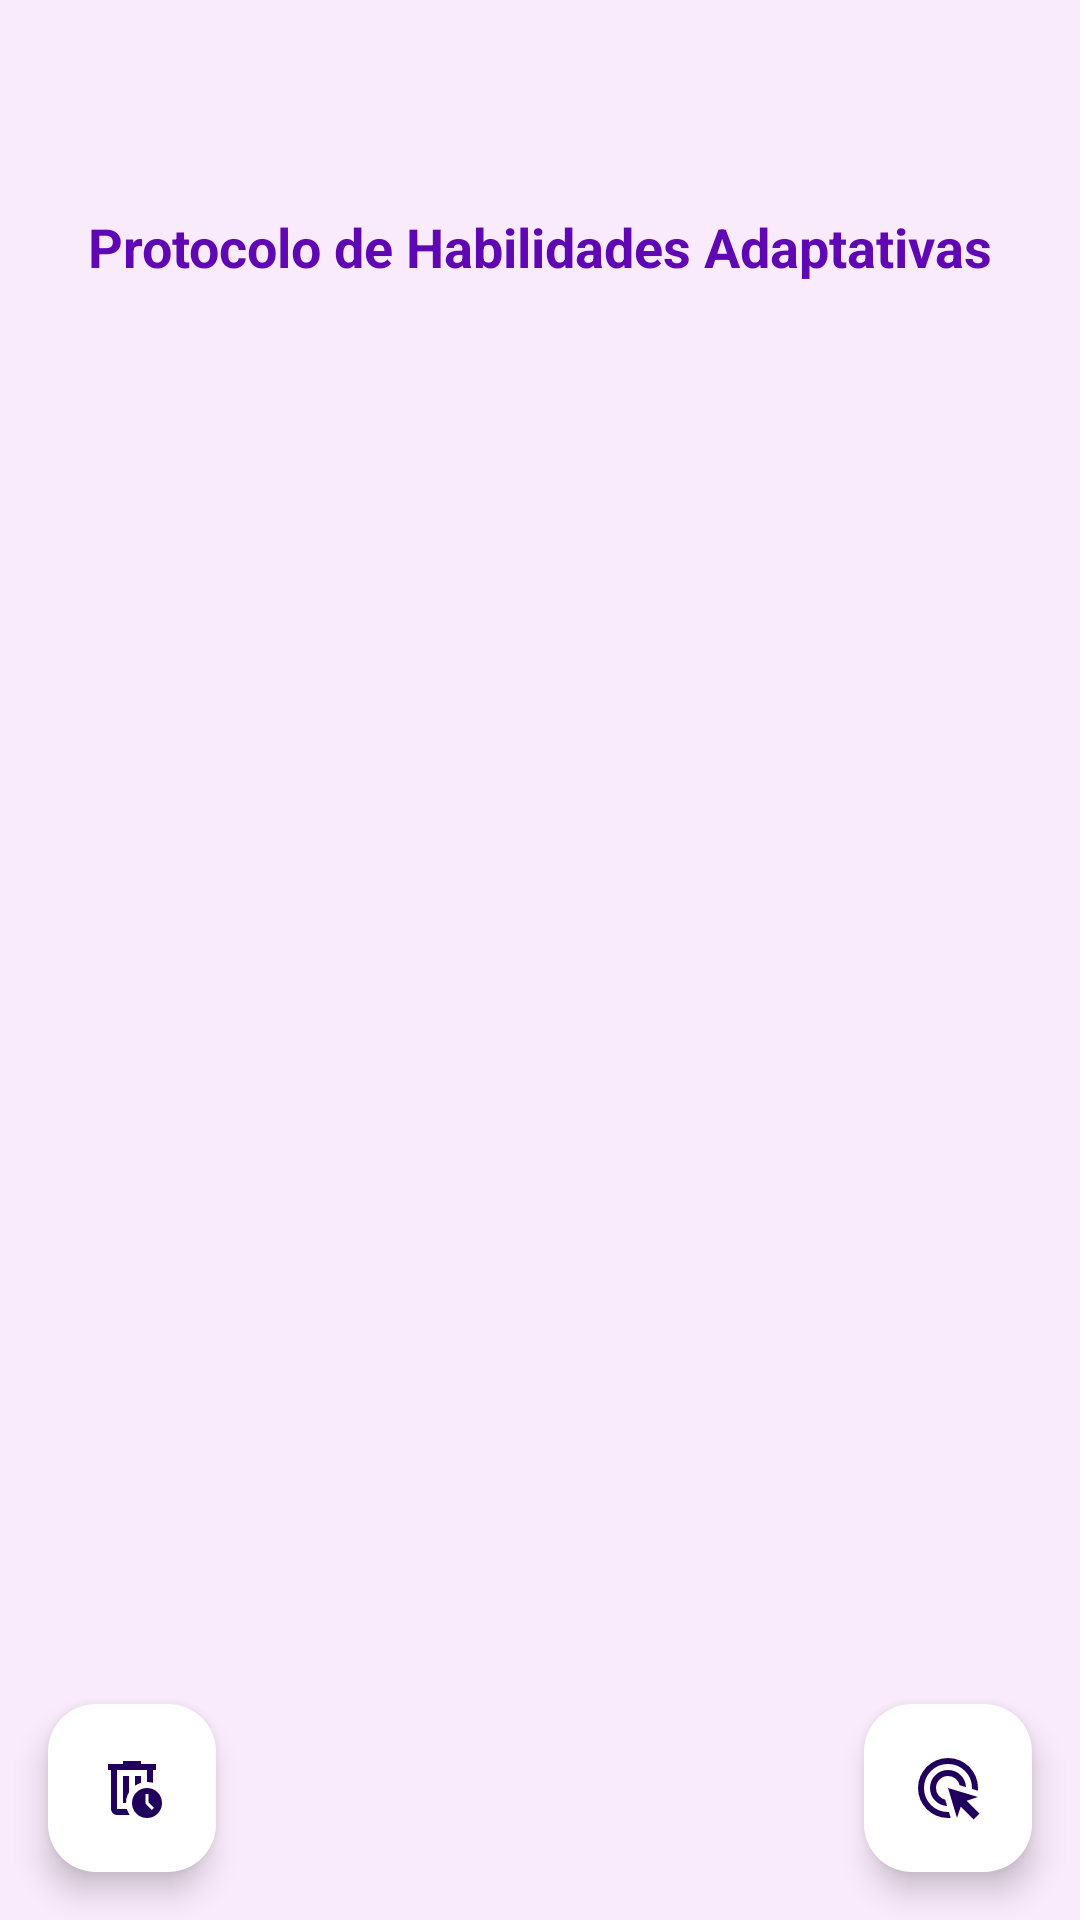

Locate icon controls on the screen. Image size 1080px x 1920px, boxes as (x1, y1, x2, y2).
auto delete: (48, 1704, 216, 1872)
